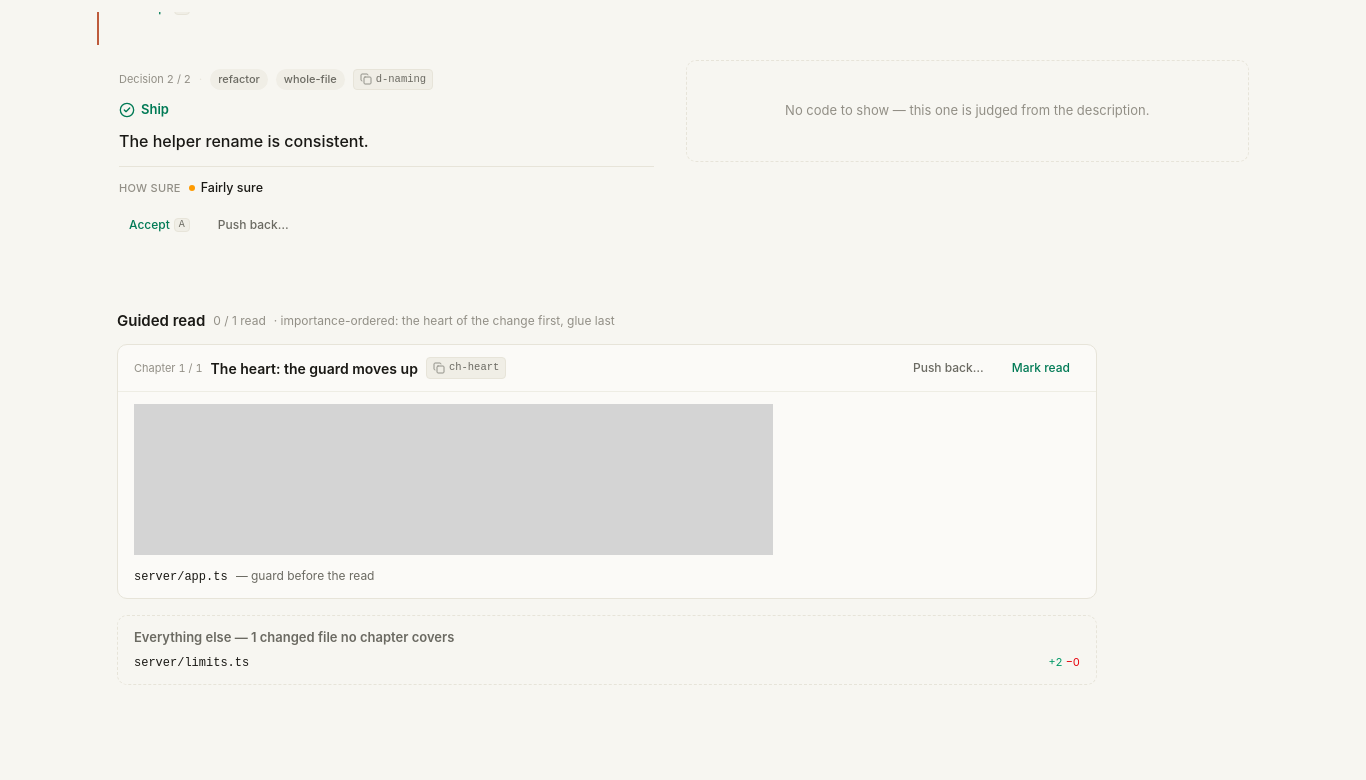
Test case: ReviewView › Mark read drives the guided-read progress and toggles back
(page scrolled)
Click the button with aria-label "Mark chapter 1 read". click: (1041, 368)
box: x1=1002 y1=355 x2=1080 y2=381
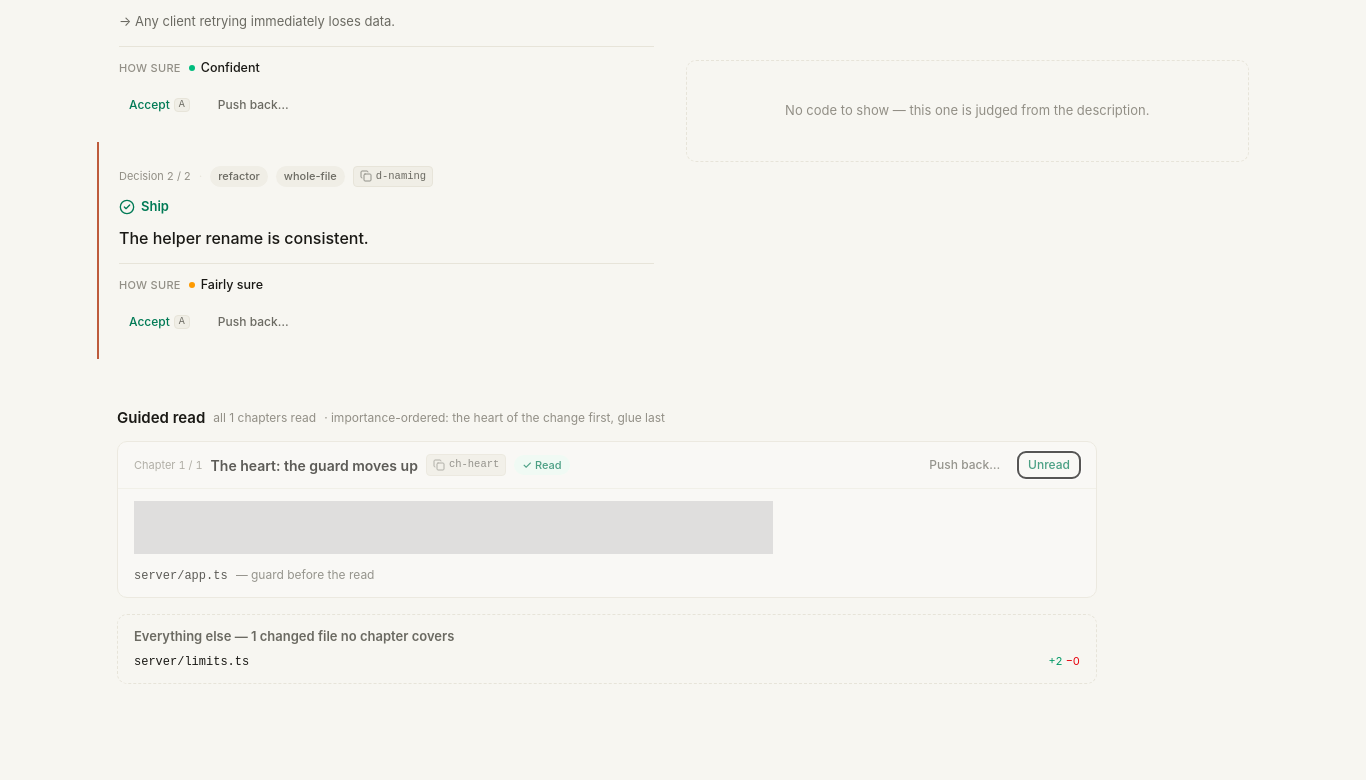
Expected: the text "all 1 chapters read" is shown, x1=213 y1=409 x2=316 y2=427
Click the button with aria-label "Mark chapter 1 unread". click: (1049, 465)
box: x1=1018 y1=452 x2=1080 y2=478
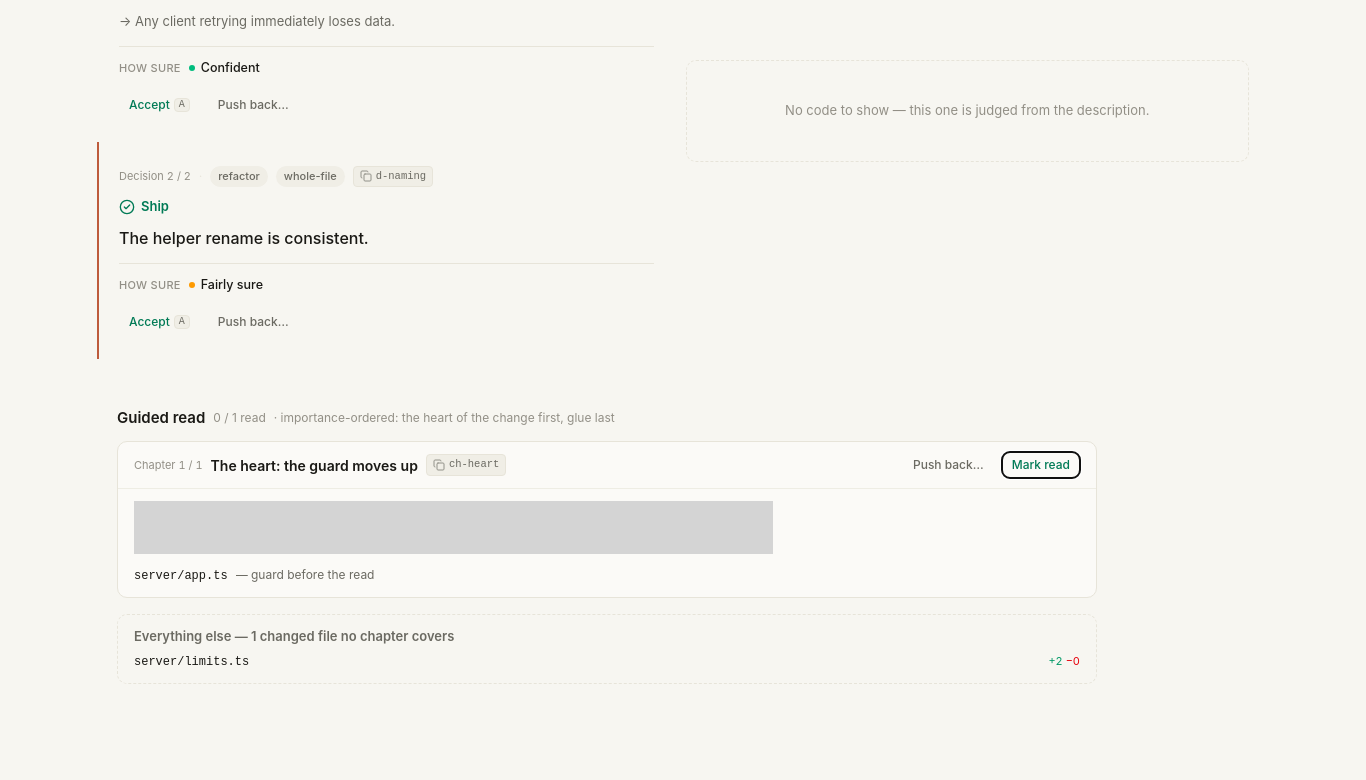
Expected: the text "0 / 1 read" is shown, x1=213 y1=409 x2=266 y2=427
